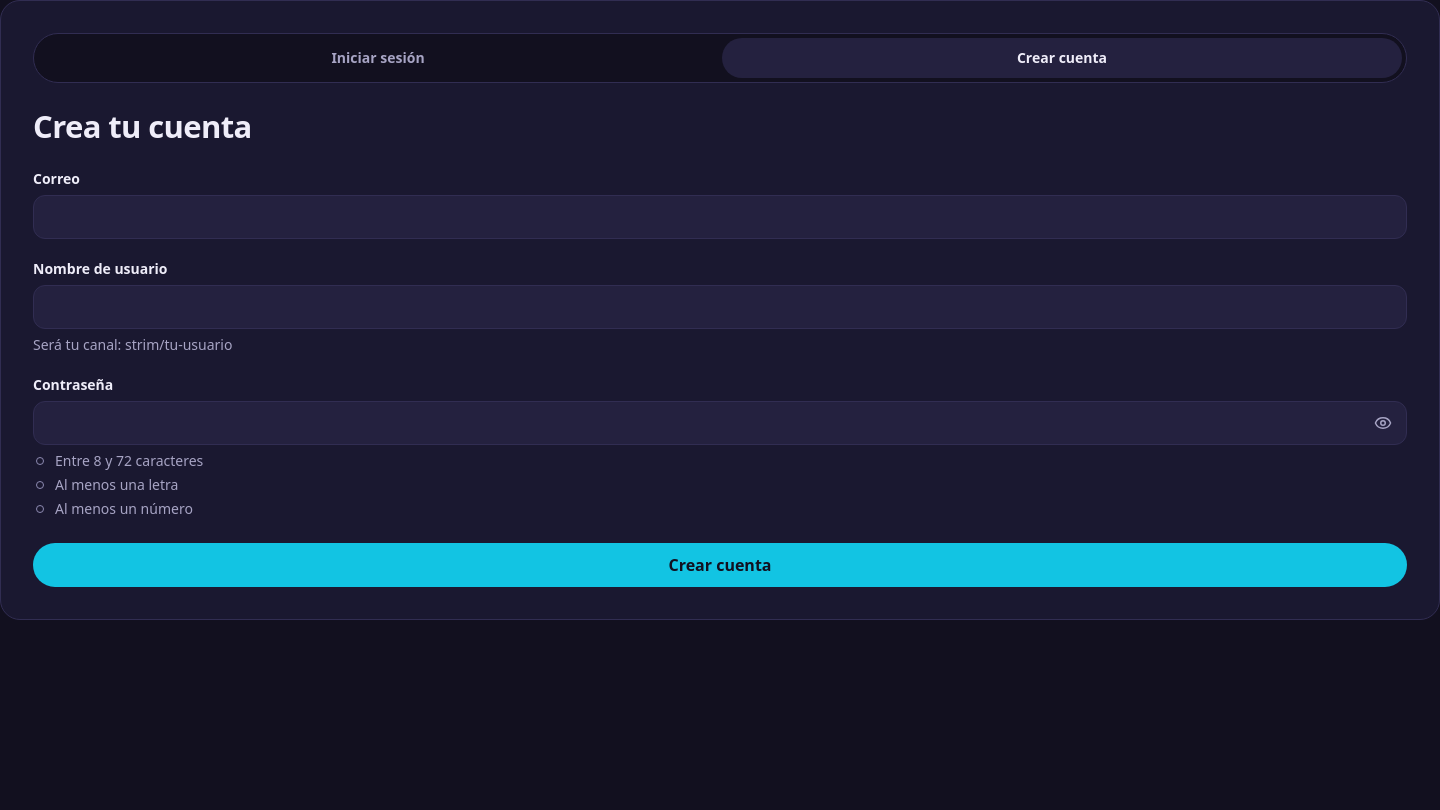
RegisterPage › si solo falla el usuario, el foco va a ese campo
In the field labelled "Correo": (720,217) left=33, top=195, right=1407, bottom=239, type "ana@mail.com"
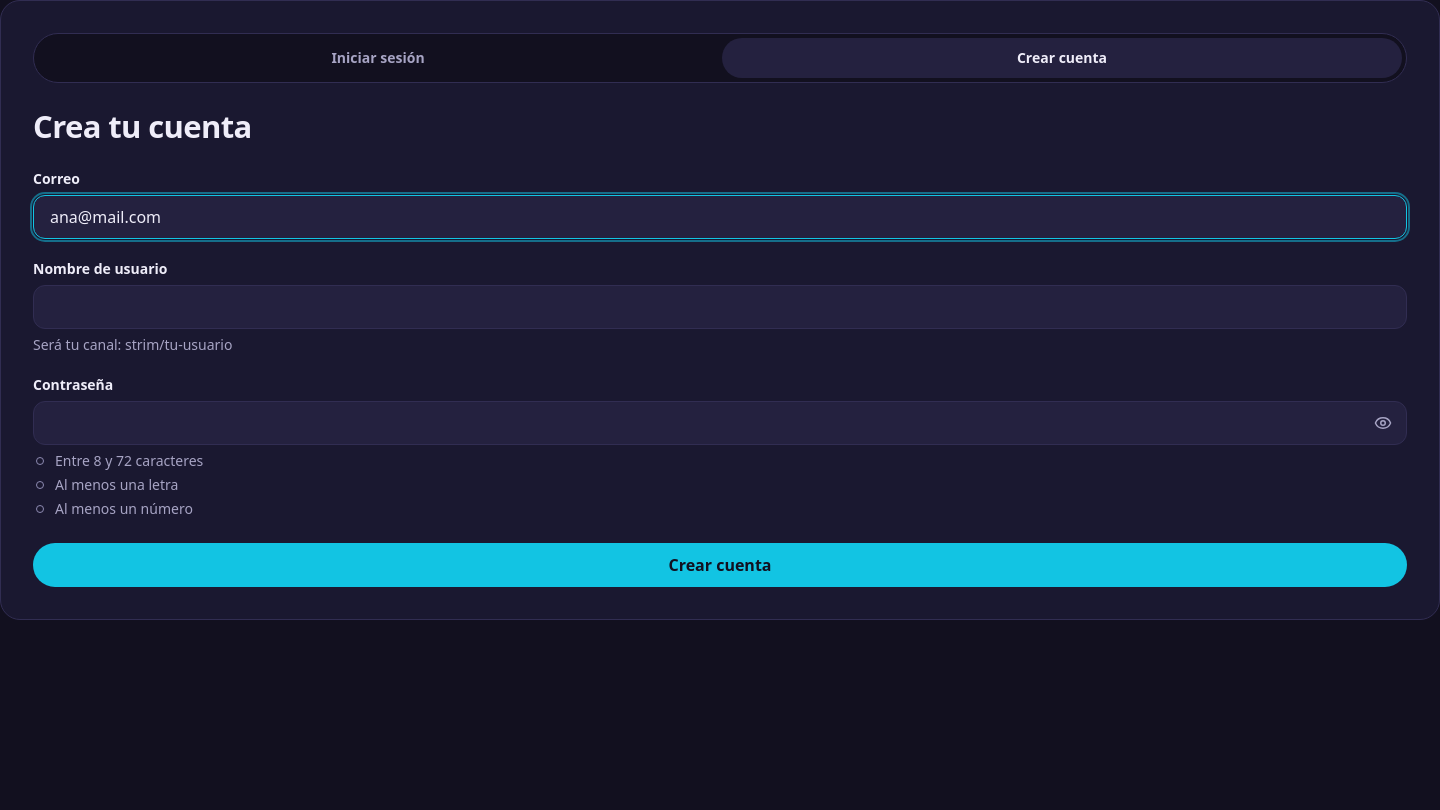
In the field labelled "Nombre de usuario": (720,307) left=33, top=285, right=1407, bottom=329, type "admin"
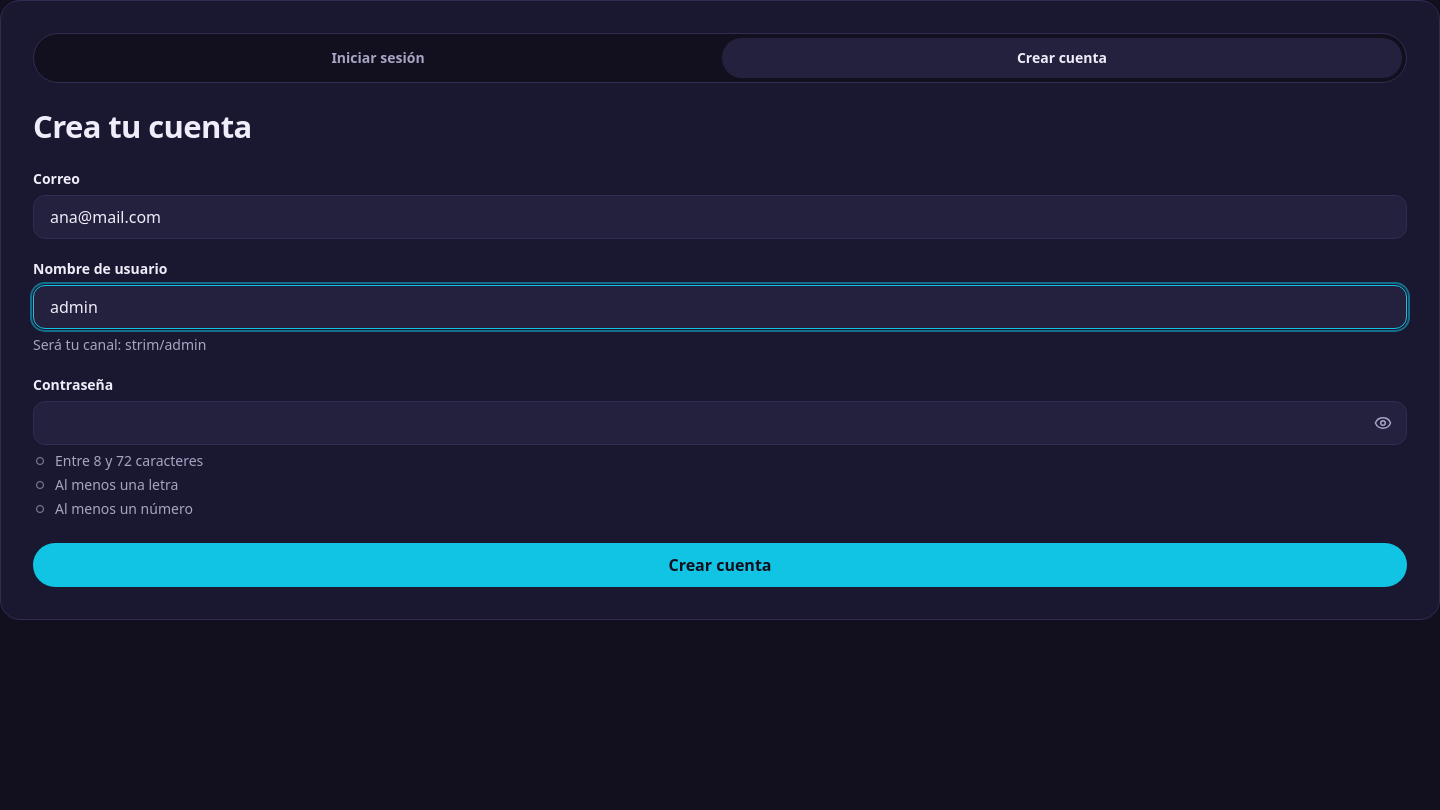
In the password field labelled "Contraseña": (720,423) left=33, top=401, right=1407, bottom=445, type "secreta12"
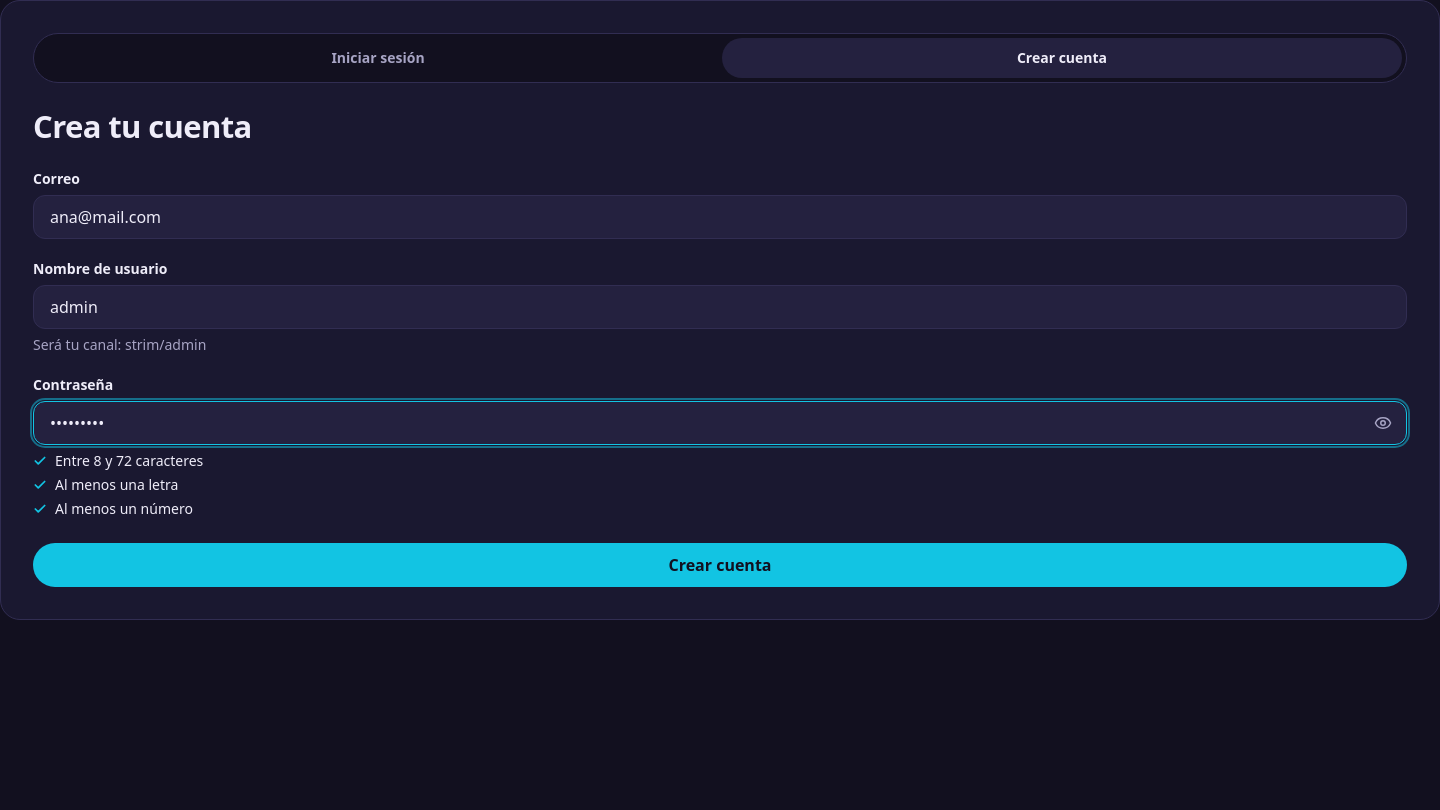
Click the button "Crear cuenta": (720,565) left=33, top=543, right=1407, bottom=587
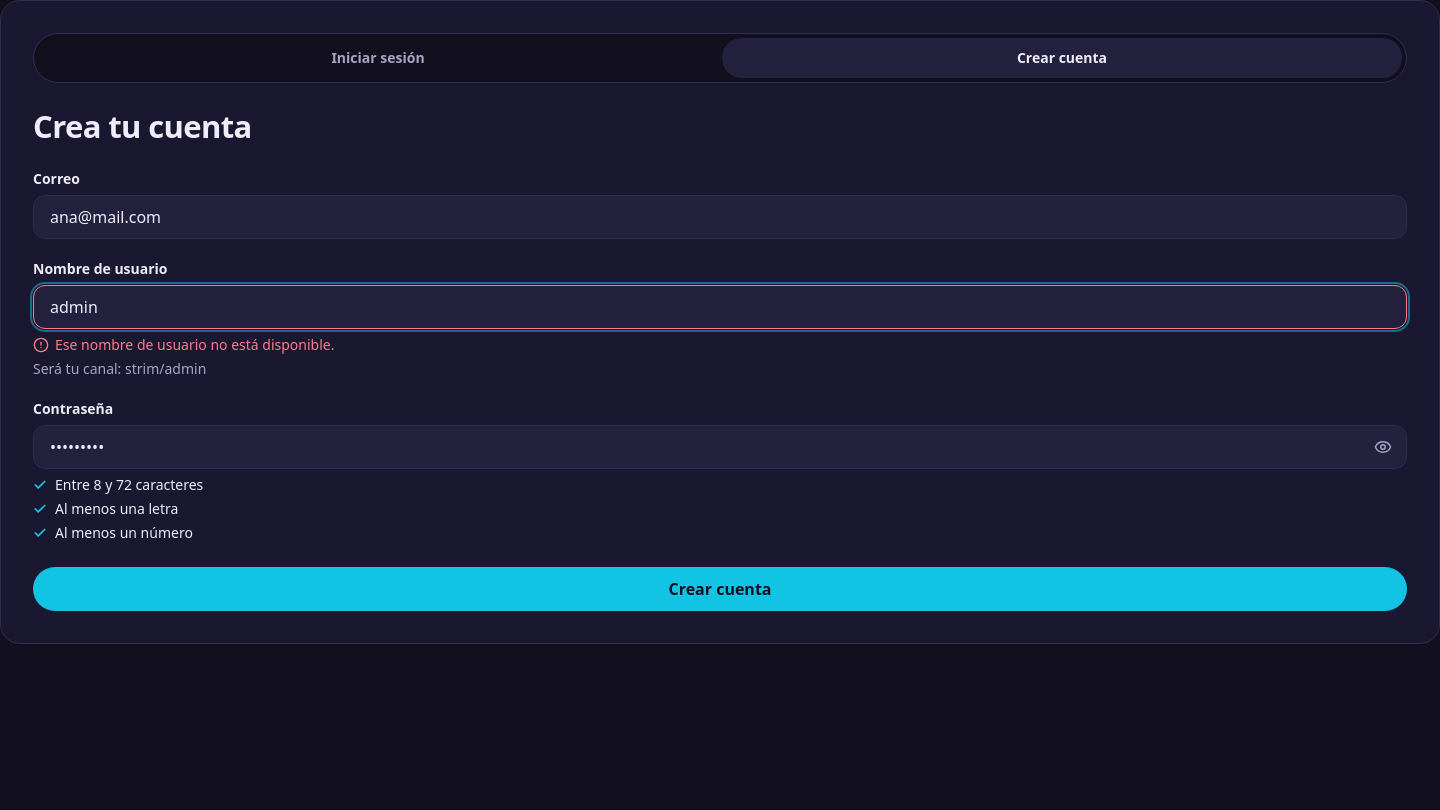
Check: the text "Ese nombre de usuario no está disponible." is shown, box left=33, top=335, right=334, bottom=355
